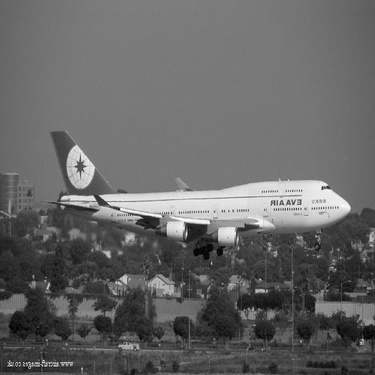airplane: (33, 112, 361, 262)
